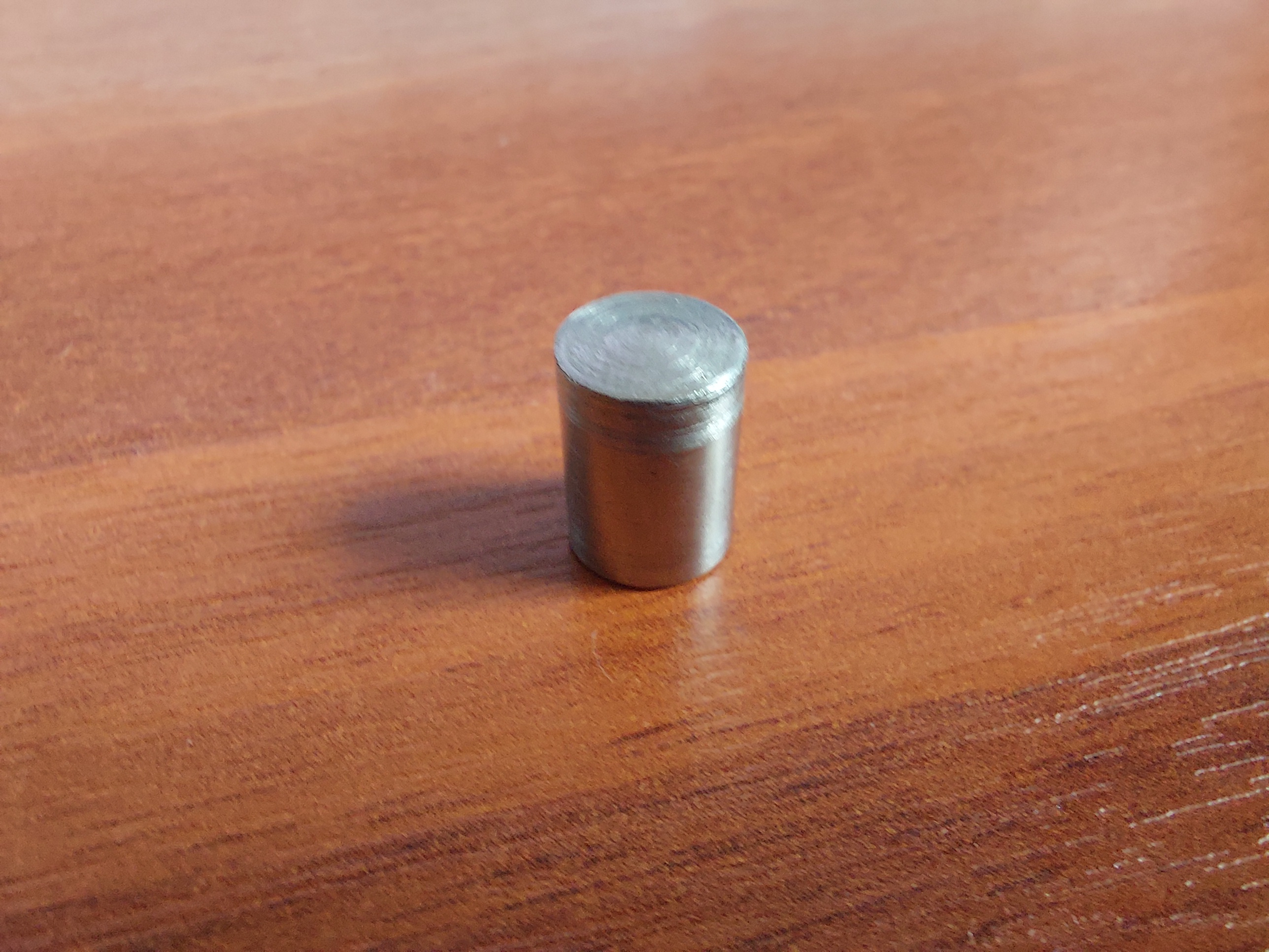tablet: (549, 295, 754, 593)
